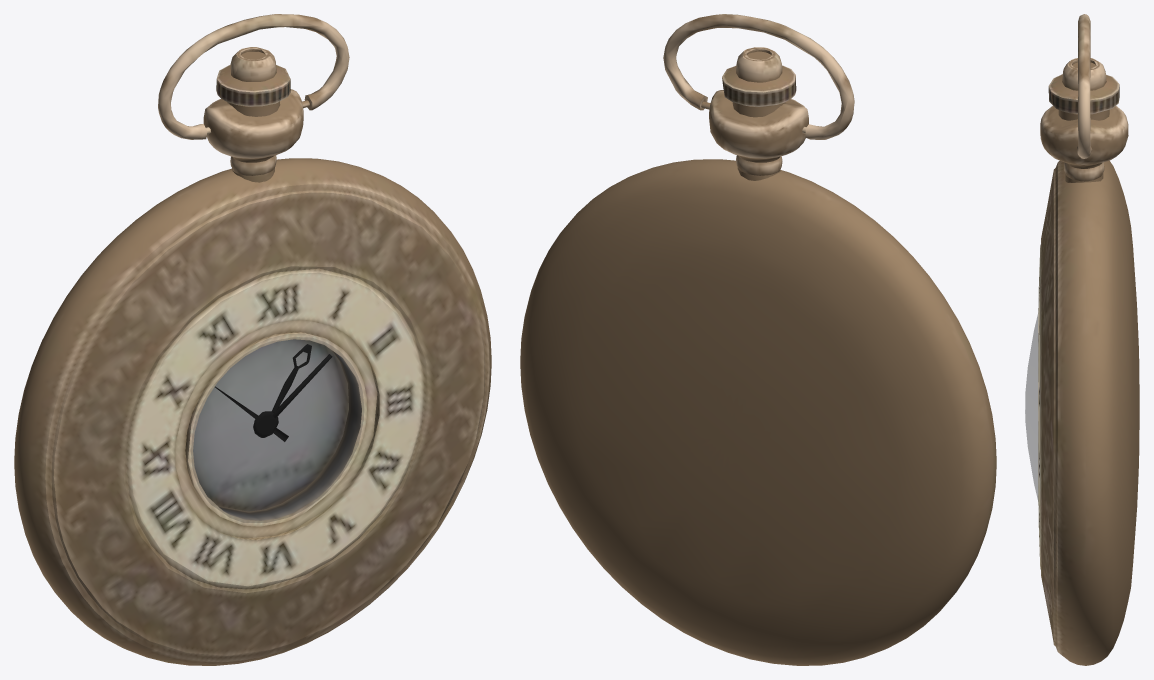
The model's file is vintage_pocket_watch.glb.
3 views of the same model, side by side, from view 1: azimuth 30°, elevation 25°; view 2: azimuth 150°, elevation 25°; view 3: azimuth 270°, elevation 25° (orthographic). The views are drawn at different scales.
Visible parts, largest first — view 1: vintage_pocket_watch; view 2: vintage_pocket_watch; view 3: vintage_pocket_watch.
Part boxes in pixels (box(x1,y1,x2,y2)): vintage_pocket_watch: box(14, 14, 491, 665); vintage_pocket_watch: box(520, 14, 996, 665); vintage_pocket_watch: box(1025, 14, 1139, 665).
Size of the model in its own units: 0.0613 by 0.0799 by 0.0135.
3 materials, 1 textured.
